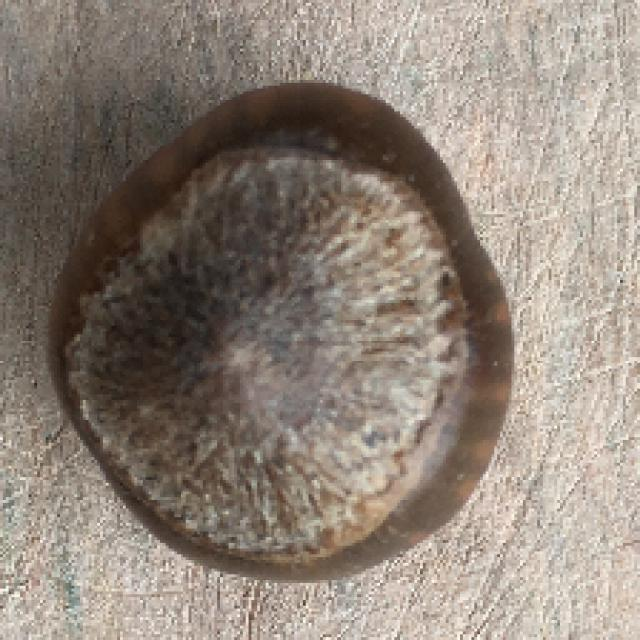damagedHazelnut: (46, 78, 518, 590)
